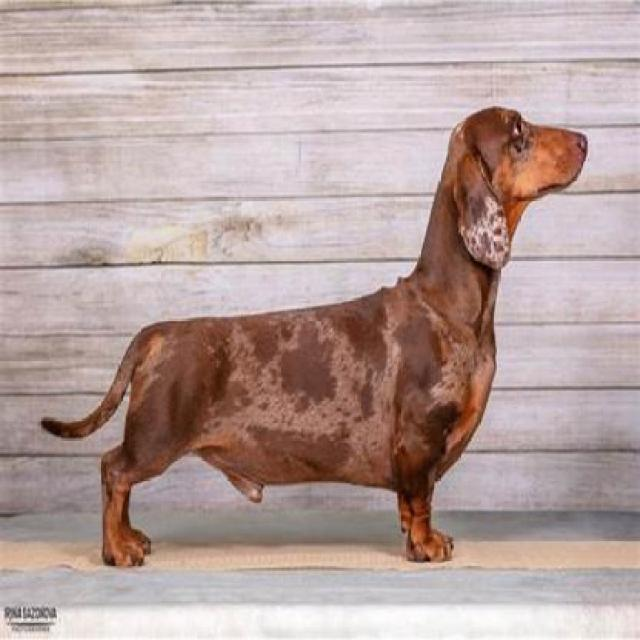Dog: (37, 97, 591, 561)
